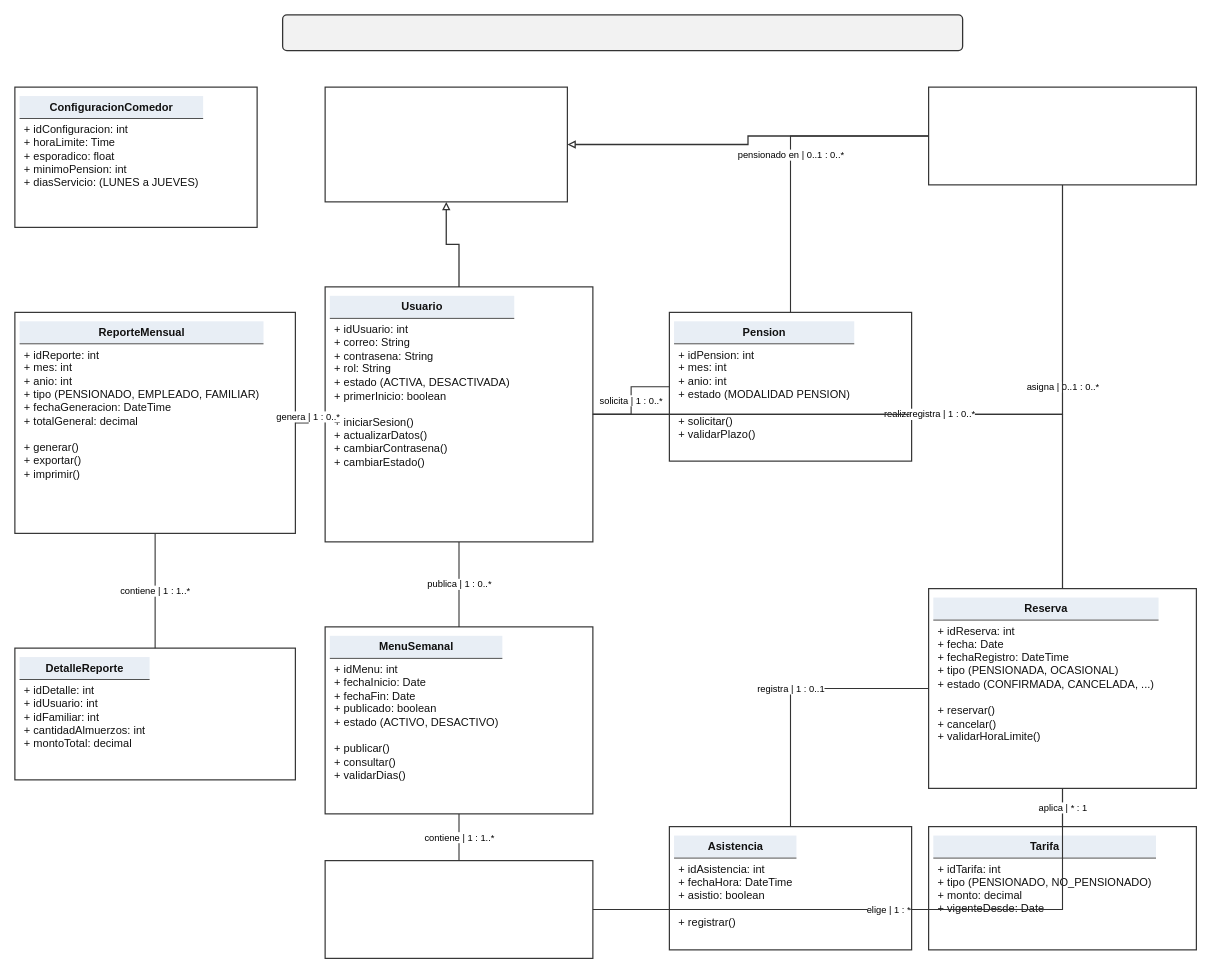
This 1212x974 diagram has some shape labels left out. The shapes that lost their labels are listed below. From the top down, each one's box as (x1, y1, x2, y2) in pixels, then its label:
(282, 14, 963, 51): DIAGRAMA DE CLASES – RUMBO AL CIELO
(324, 86, 568, 202): Persona + idPersona: int + nombre: String + apellido: String + telefono: String
(928, 86, 1197, 185): Familiar + idFamiliar: int + parentesco (HIJO, HIJA, CONYUGE, OTRO)
(324, 860, 593, 959): Plato + idPlato: int + nombre: String + descripcion: String
